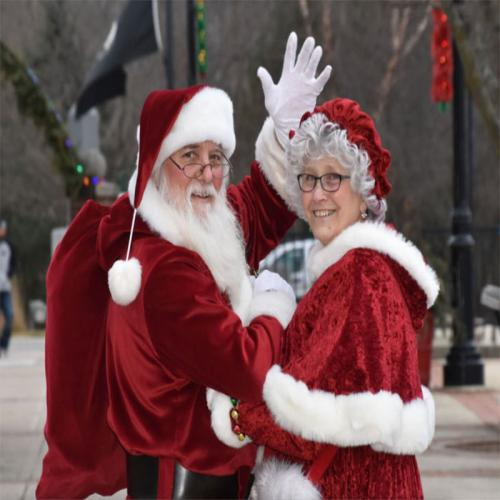Santa: (104, 29, 332, 500)
